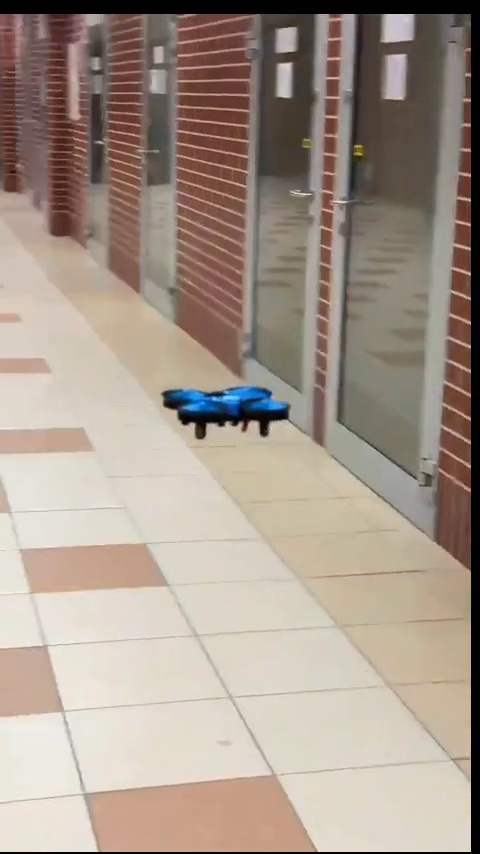drone: (159, 386, 287, 446)
